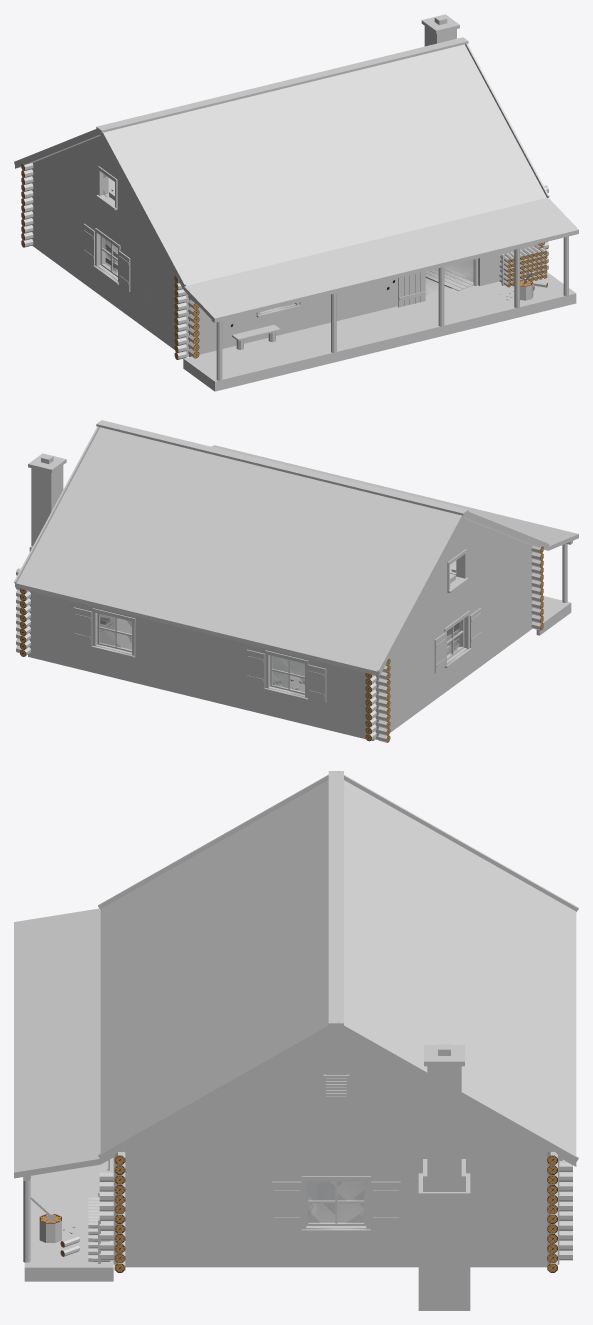
File: cabin_east.glb
3 renders of one model, top to bottom at view 1: azimuth 30°, elevation 25°; view 2: azimuth 150°, elevation 25°; view 3: azimuth 270°, elevation 25°, orthographic. The views are drawn at different scales.
Parts seen in each view (by area): view 1: cabin_east; view 2: cabin_east; view 3: cabin_east.
Boxes of the visible parts, <box> form: cabin_east: <box>14,14,578,391</box>; cabin_east: <box>14,420,578,742</box>; cabin_east: <box>14,771,578,1310</box>.
Bounding box in the file's own units: 14.75 × 6.89 × 13.06.
Materials: 4 (3 with a texture image).
